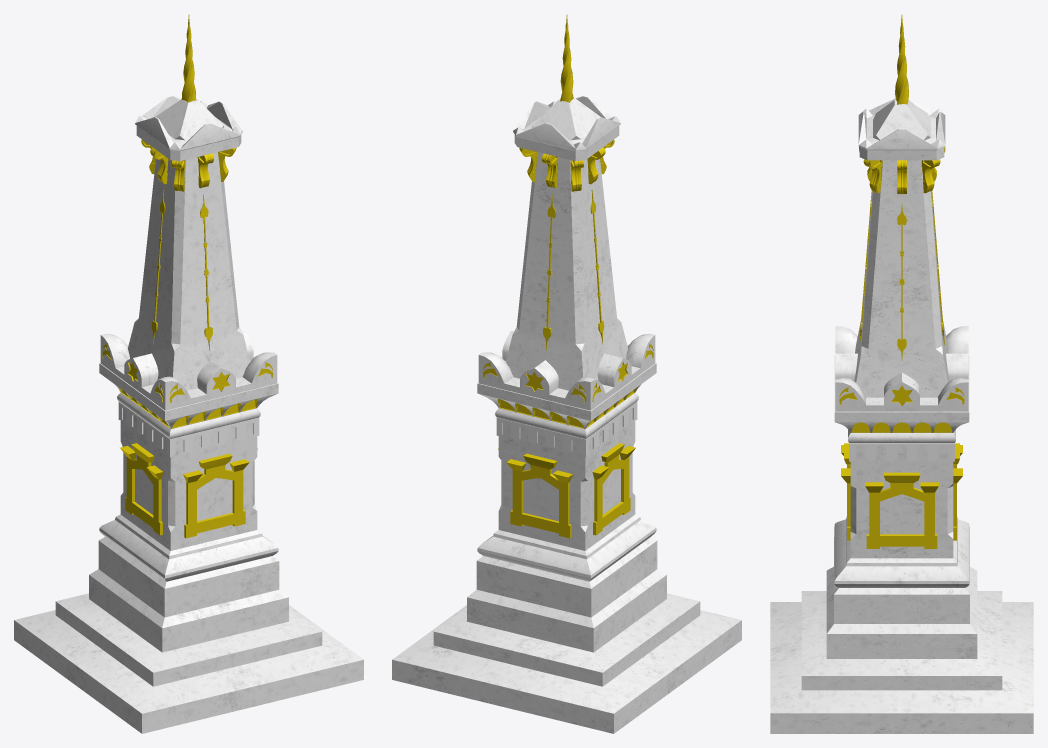
File: tugu.glb
The picture shows the model from 3 angles, left to right: view 1: azimuth 30°, elevation 25°; view 2: azimuth 150°, elevation 25°; view 3: azimuth 270°, elevation 25°; orthographic projection. The views are drawn at different scales.
Parts seen in each view (by area): view 1: Cube_Material_0, Cube.002_Material_0, Cube.001_Material.001_0, Plane, Cube.003_Material.001_0, Cube.005, Cube_Material.001_0, Cube.002_Material.001_0, Plane.001; view 2: Cube_Material_0, Cube.002_Material_0, Cube.001_Material.001_0, Plane, Cube.003_Material.001_0, Cube.005, Cube_Material.001_0, Cube.002_Material.001_0, Plane.001; view 3: Cube_Material_0, Cube.002_Material_0, Cube.001_Material.001_0, Cube.003_Material.001_0, Plane, Cube.005, Cube_Material.001_0, Plane.001, Cube.002_Material.001_0.
Boxes of the visible parts, box(x1,y1,x2,y2) form: Cube_Material_0: box(14, 96, 363, 733); Cube.002_Material_0: box(100, 331, 277, 410); Cube.001_Material.001_0: box(120, 443, 257, 538); Plane: box(118, 402, 259, 457); Cube.003_Material.001_0: box(141, 139, 236, 191); Cube.005: box(151, 190, 212, 350); Cube_Material.001_0: box(118, 387, 258, 428); Cube.002_Material.001_0: box(102, 344, 272, 402); Plane.001: box(181, 15, 196, 102); Cube_Material_0: box(392, 96, 741, 733); Cube.002_Material_0: box(478, 331, 655, 410); Cube.001_Material.001_0: box(498, 443, 635, 538); Plane: box(496, 402, 637, 457); Cube.003_Material.001_0: box(519, 139, 614, 191); Cube.005: box(543, 190, 604, 350); Cube_Material.001_0: box(497, 387, 637, 428); Cube.002_Material.001_0: box(483, 344, 653, 402); Plane.001: box(560, 15, 573, 102); Cube_Material_0: box(770, 98, 1033, 733); Cube.002_Material_0: box(835, 326, 968, 411); Cube.001_Material.001_0: box(841, 443, 962, 548); Cube.003_Material.001_0: box(859, 147, 945, 193); Plane: box(849, 443, 954, 461); Cube.005: box(859, 191, 944, 360); Cube_Material.001_0: box(851, 422, 952, 432); Plane.001: box(895, 14, 908, 104); Cube.002_Material.001_0: box(839, 386, 964, 405).
Size of the model in its own units: 0.725 by 2.02 by 0.725.
3 materials, 1 textured.
